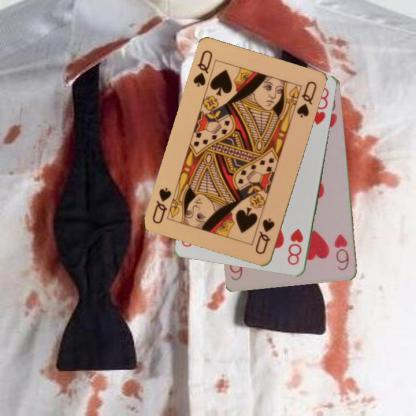6h: (332, 232, 350, 272)
8h: (285, 226, 304, 267)
Qs: (190, 48, 214, 88), (253, 215, 276, 256)
